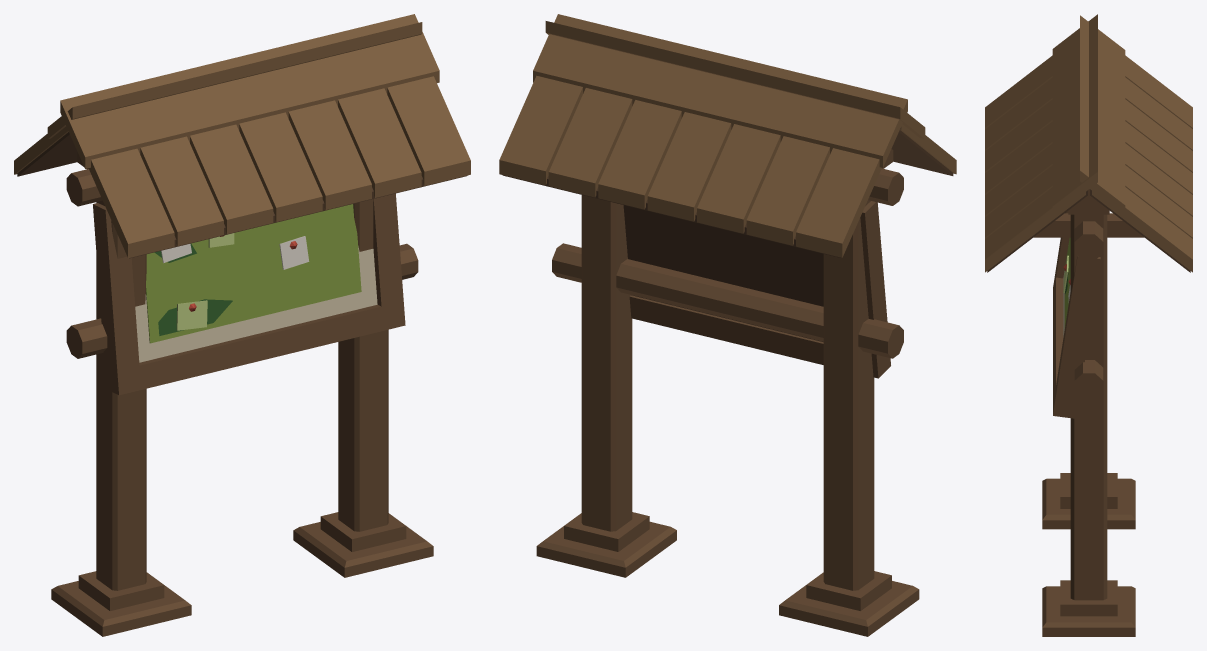
Rendered from trail-map-kiosk-be8618.glb.
3 views of the same model, side by side, from view 1: azimuth 30°, elevation 25°; view 2: azimuth 150°, elevation 25°; view 3: azimuth 270°, elevation 25° (orthographic). The views are drawn at different scales.
Visible parts, largest first — view 1: trail-map-kiosk-mesh; view 2: trail-map-kiosk-mesh; view 3: trail-map-kiosk-mesh.
Part boxes in pixels (x1,y1,x2,y2): trail-map-kiosk-mesh: [14, 14, 470, 636]; trail-map-kiosk-mesh: [499, 14, 956, 636]; trail-map-kiosk-mesh: [985, 14, 1192, 636].
Size of the model in its own units: 1.44 by 2 by 0.8.
